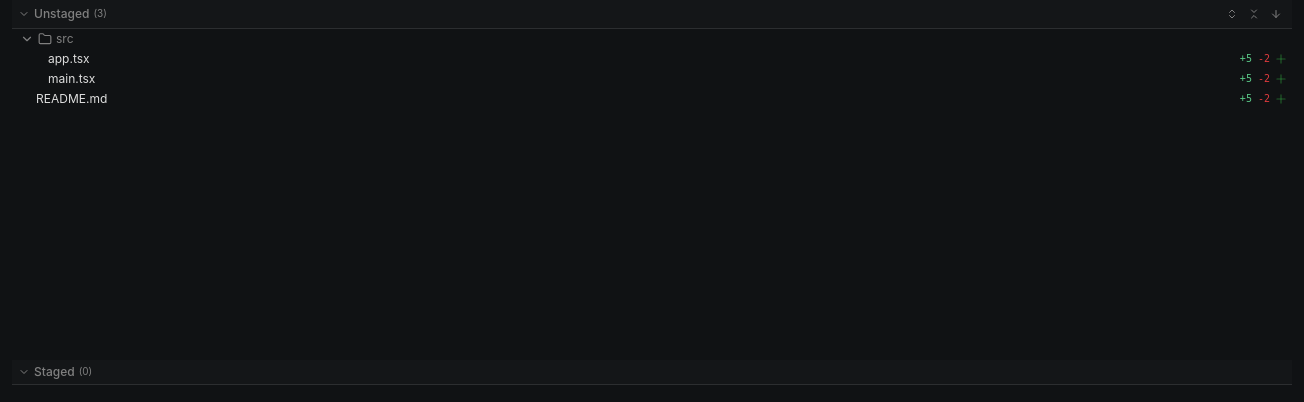
Test case: DiffFileTree › folder toggle › should re-expand folder when clicked again
This screenshot has width=1304, height=402.
What coordinates should you click on to do the following:
click the button "src"
I would click on:
 (27, 39)
Its box is [12,29,1292,49].
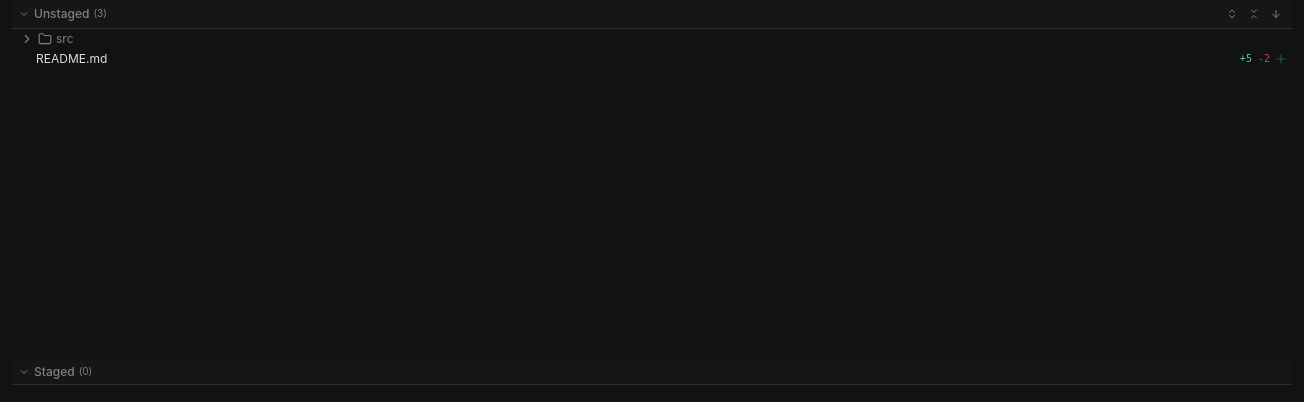
Expected: the button "app.tsx" is gone
What coordinates should you click on to do the following:
click the button "src"
I would click on:
 (27, 39)
Its box is [12,29,1292,49].
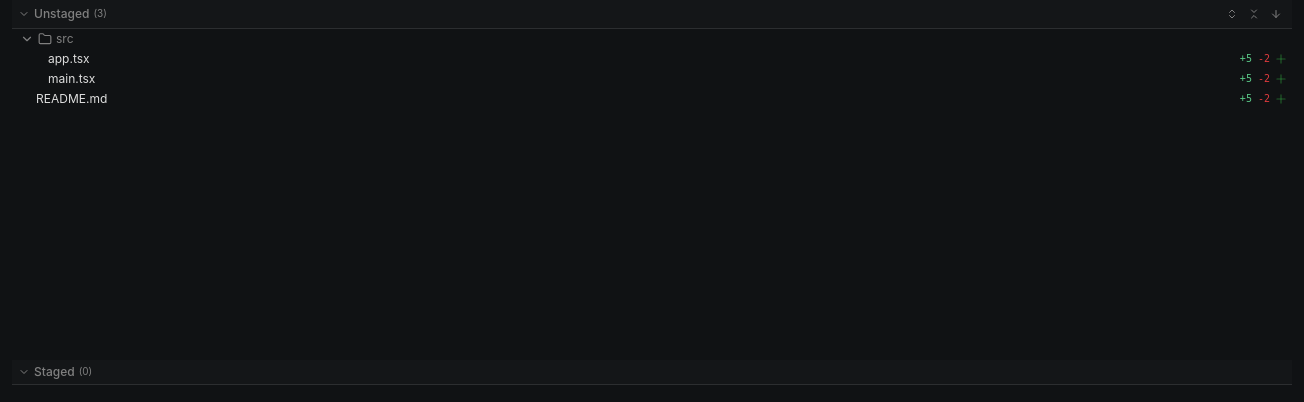
Expected: the text "app.tsx" is shown, [48,51,90,67]
